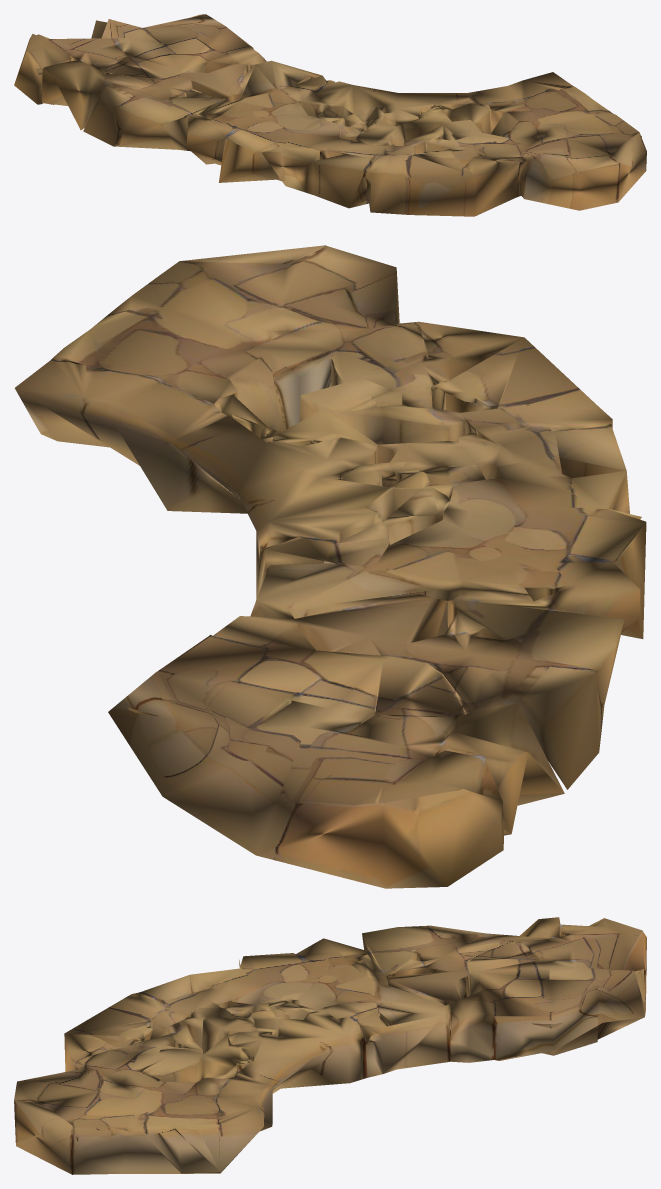
File: stone_path_curved.glb
3 renders of one model, top to bottom at view 1: azimuth 30°, elevation 25°; view 2: azimuth 150°, elevation 25°; view 3: azimuth 270°, elevation 25°, orthographic. The views are drawn at different scales.
Parts seen in each view (by area): view 1: tripo_node_3f53ac40-21a7-45cd-a1bf-1f2b462347a2; view 2: tripo_node_3f53ac40-21a7-45cd-a1bf-1f2b462347a2; view 3: tripo_node_3f53ac40-21a7-45cd-a1bf-1f2b462347a2.
Boxes of the visible parts, box(x1,y1,x2,y2) form: tripo_node_3f53ac40-21a7-45cd-a1bf-1f2b462347a2: box(14, 14, 646, 216); tripo_node_3f53ac40-21a7-45cd-a1bf-1f2b462347a2: box(15, 245, 646, 888); tripo_node_3f53ac40-21a7-45cd-a1bf-1f2b462347a2: box(14, 917, 646, 1174).
Bounding box in the file's own units: 0.7885 × 0.0838 × 0.9864.
Materials: 1 (1 with a texture image).
